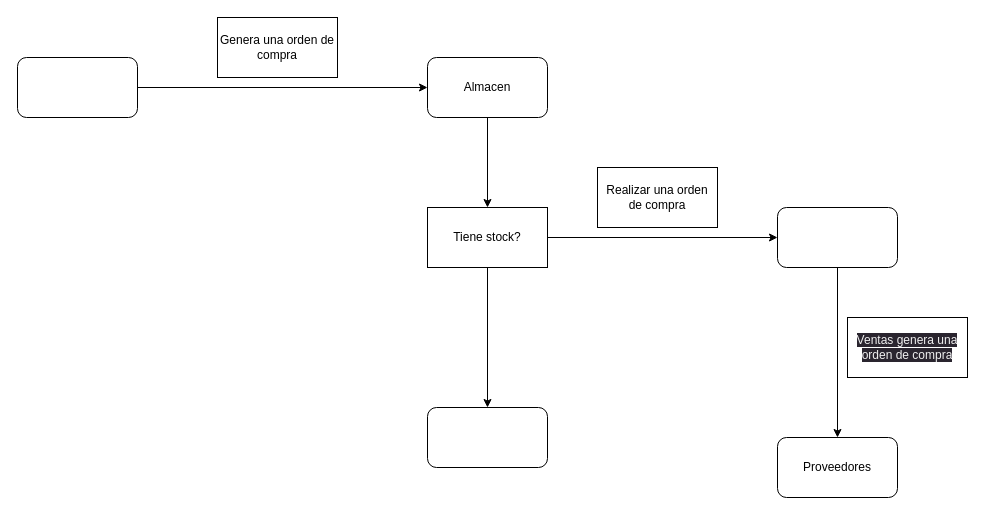
Image size: 985x515. Some labels were removed from this diagram. The centre of each missing label's shape, as x and y in pixels:
"Genera una orden a compras" belongs at pixel 837 237.
"Realiza el envio" belongs at pixel 487 437.
"Ventas" belongs at pixel 77 87.
